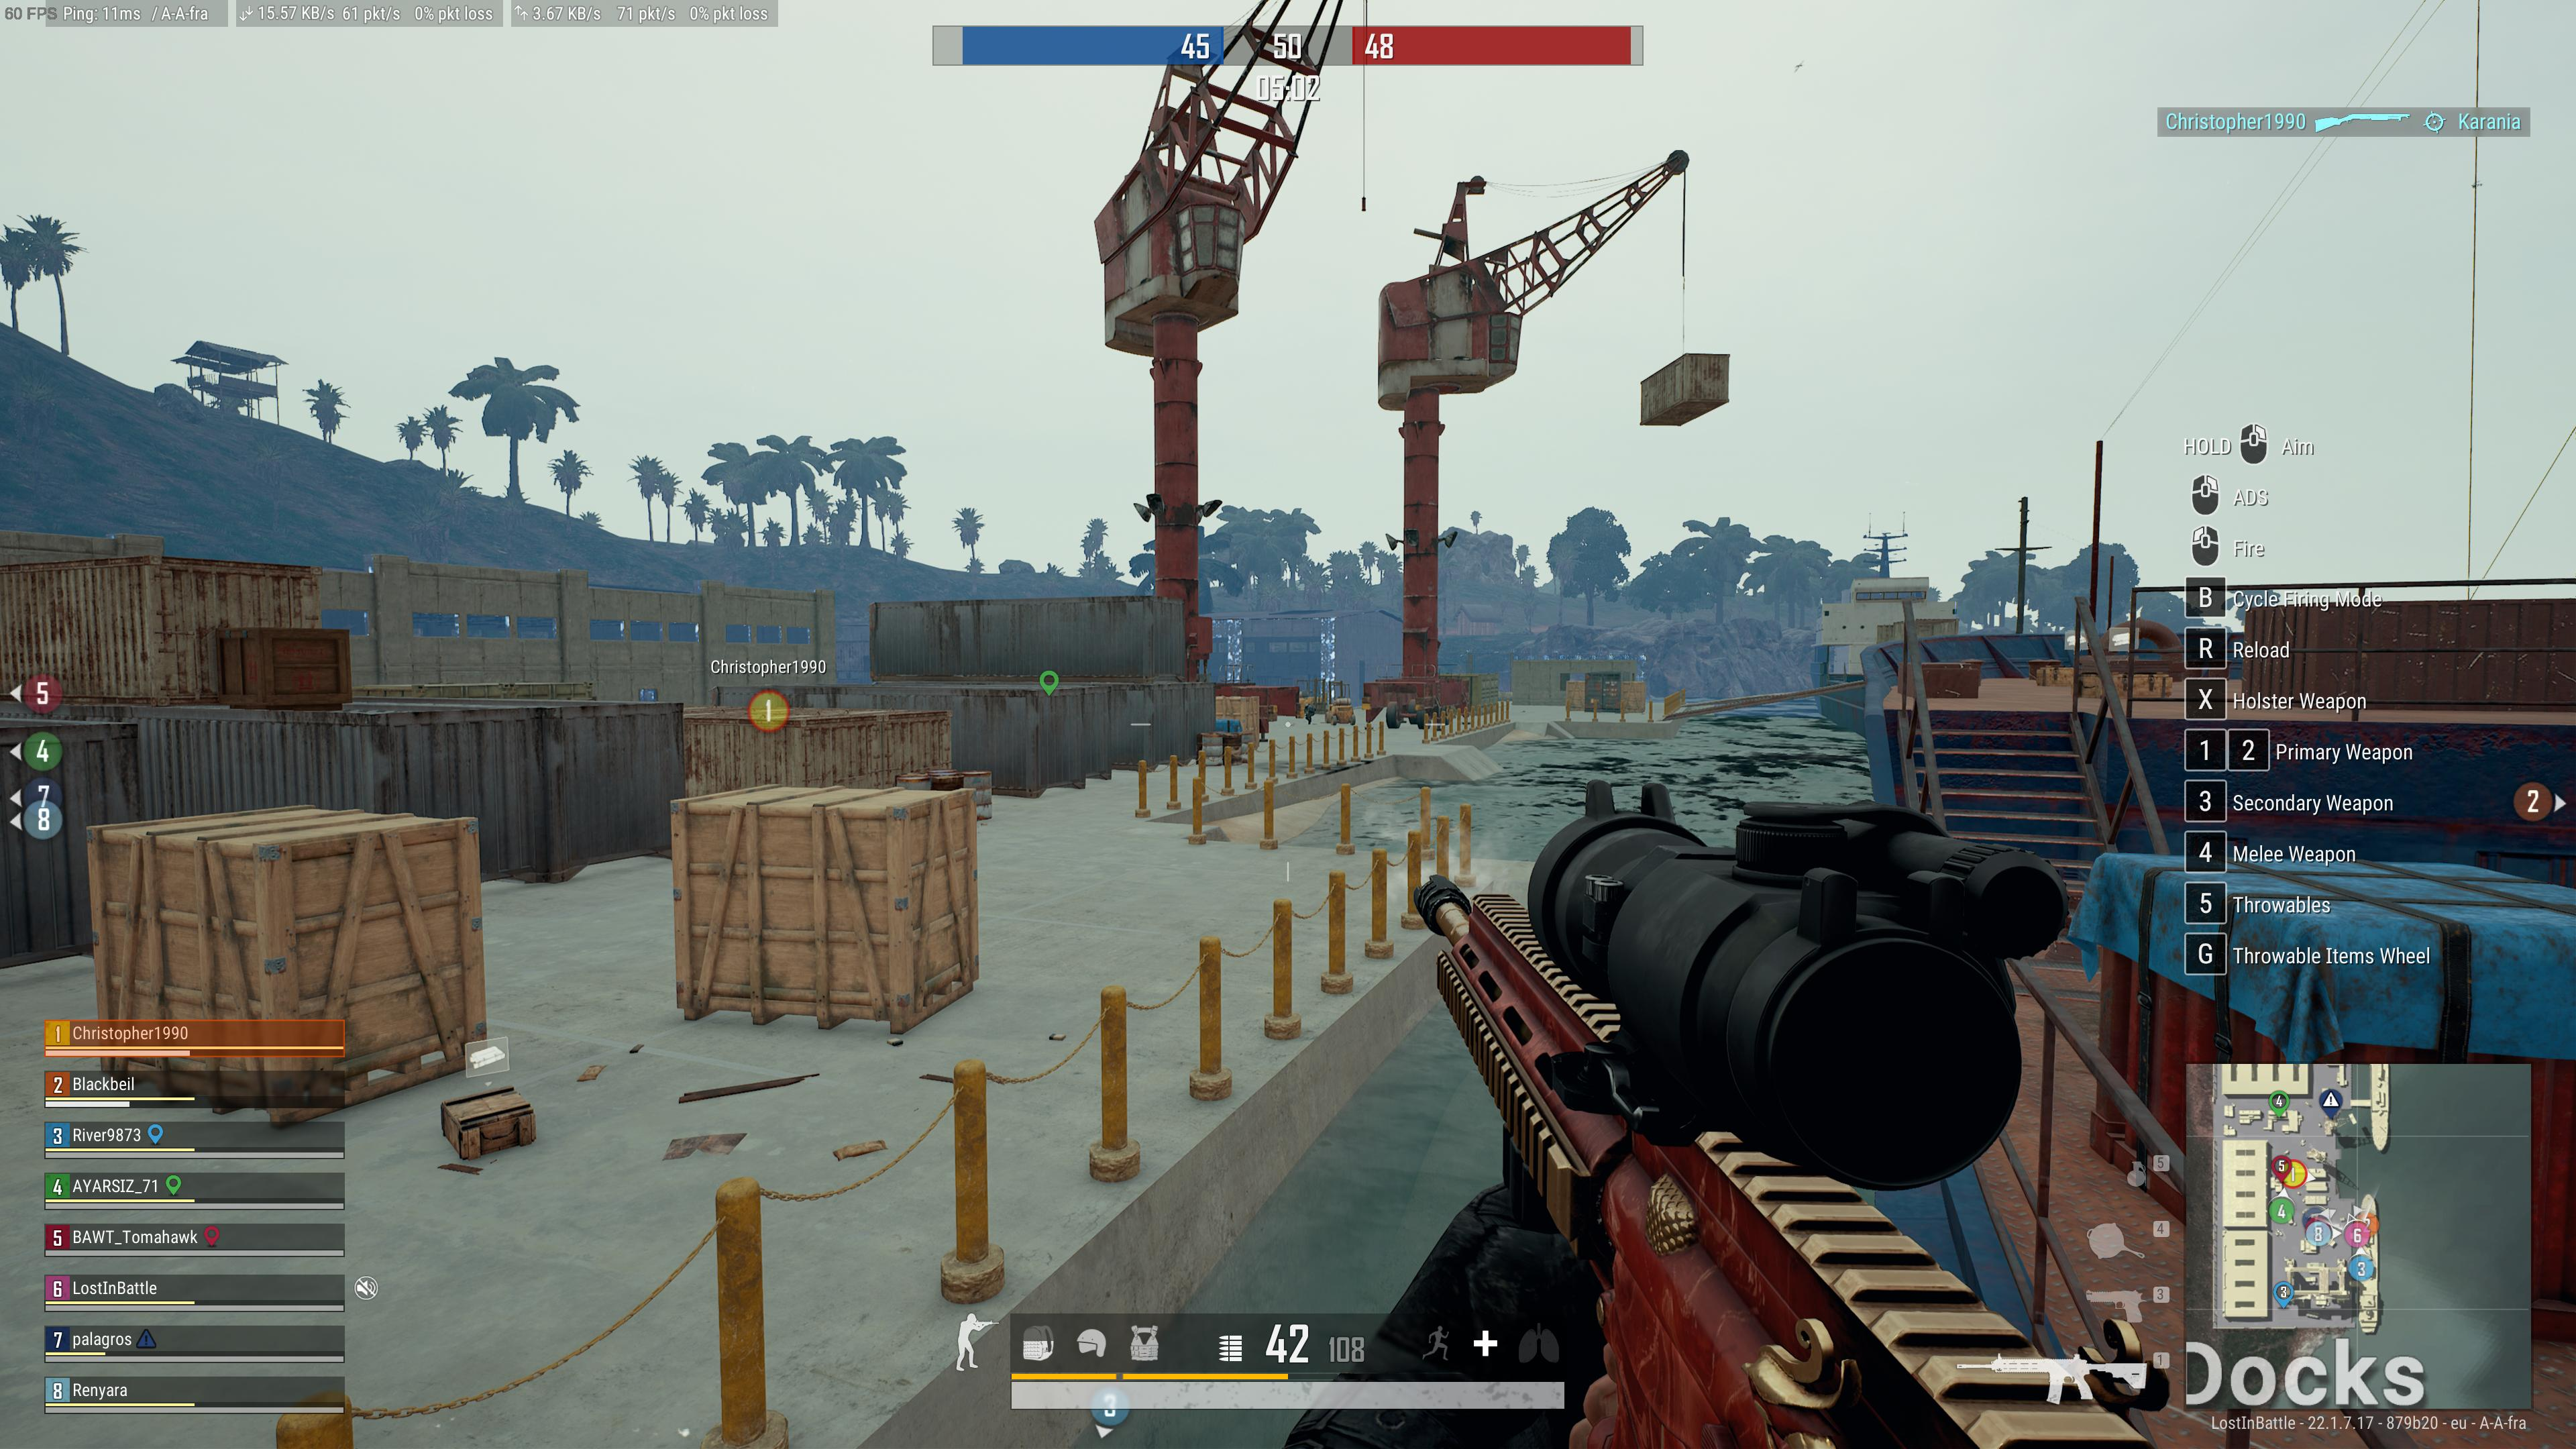enemy: (1302, 702, 1316, 725)
enemy_head: (1304, 702, 1309, 709)
